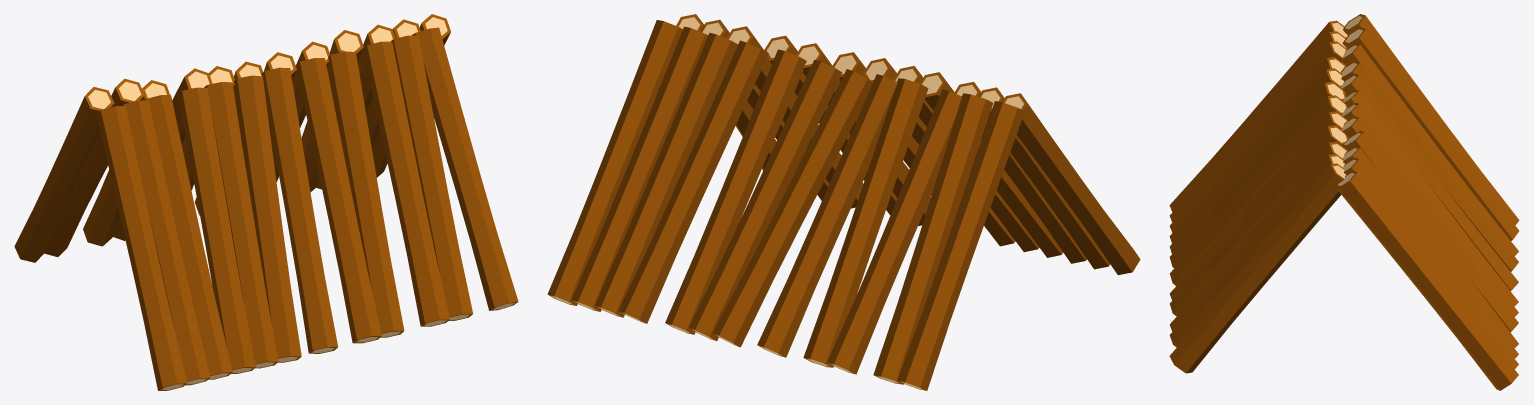
Rendered from wooden_tent.fbx.
3 views of the same model, side by side, from view 1: azimuth 30°, elevation 25°; view 2: azimuth 150°, elevation 25°; view 3: azimuth 270°, elevation 25° (orthographic). The views are drawn at different scales.
Visible parts, largest first — view 1: WoodLog.021, WoodLog.009, WoodLog.012, WoodLog.014, WoodLog.006, WoodLog.018, WoodLog.016, WoodLog.011, WoodLog.008, WoodLog.017, WoodLog.020, WoodLog.019 (+12 smaller); view 2: WoodLog.022, WoodLog.034, WoodLog.030, WoodLog.026, WoodLog.028, WoodLog.032, WoodLog.023, WoodLog.025, WoodLog.031, WoodLog.035, WoodLog.037, WoodLog.036 (+12 smaller); view 3: WoodLog.037, WoodLog.006, WoodLog.023, WoodLog.011, WoodLog.014, WoodLog.028, WoodLog.026, WoodLog.016, WoodLog.008, WoodLog.034, WoodLog.025, WoodLog.032 (+12 smaller).
Part boxes in pixels (bbox=[...]): WoodLog.021: bbox=[96, 106, 187, 390]; WoodLog.009: bbox=[363, 41, 449, 326]; WoodLog.012: bbox=[295, 58, 381, 343]; WoodLog.014: bbox=[261, 67, 337, 353]; WoodLog.006: bbox=[411, 27, 518, 310]; WoodLog.018: bbox=[178, 87, 255, 373]; WoodLog.016: bbox=[234, 75, 301, 362]; WoodLog.011: bbox=[327, 51, 404, 337]; WoodLog.008: bbox=[391, 35, 473, 320]; WoodLog.017: bbox=[204, 82, 278, 368]; WoodLog.020: bbox=[122, 100, 210, 385]; WoodLog.019: bbox=[144, 95, 232, 379]; WoodLog.022: bbox=[897, 101, 1024, 390]; WoodLog.034: bbox=[618, 40, 768, 323]; WoodLog.030: bbox=[713, 69, 872, 347]; WoodLog.026: bbox=[803, 78, 928, 367]; WoodLog.028: bbox=[757, 74, 897, 357]; WoodLog.032: bbox=[665, 49, 806, 334]; WoodLog.023: bbox=[873, 93, 993, 384]; WoodLog.025: bbox=[827, 89, 961, 374]; WoodLog.031: bbox=[689, 59, 842, 340]; WoodLog.035: bbox=[595, 32, 738, 317]; WoodLog.037: bbox=[547, 20, 682, 305]; WoodLog.036: bbox=[571, 26, 708, 311]; WoodLog.037: bbox=[1335, 170, 1518, 390]; WoodLog.006: bbox=[1169, 163, 1345, 373]; WoodLog.023: bbox=[1342, 27, 1519, 240]; WoodLog.011: bbox=[1169, 125, 1348, 316]; WoodLog.014: bbox=[1169, 95, 1347, 285]; WoodLog.028: bbox=[1341, 74, 1518, 291]; WoodLog.026: bbox=[1340, 60, 1518, 271]; WoodLog.016: bbox=[1169, 81, 1346, 268]; WoodLog.008: bbox=[1169, 154, 1344, 347]; WoodLog.034: bbox=[1342, 131, 1518, 348]; WoodLog.025: bbox=[1340, 43, 1518, 256]; WoodLog.032: bbox=[1341, 116, 1518, 332].
Size of the model in its own units: 8.99 by 5.02 by 7.38.
